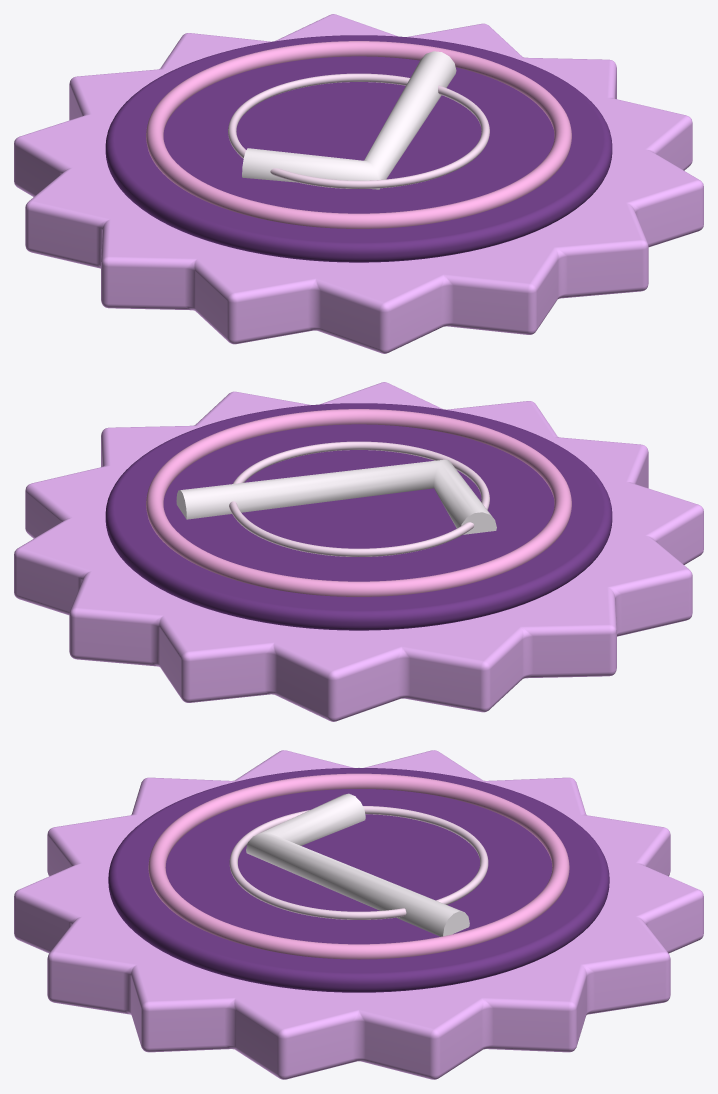
The model's file is achievement_medal.glb.
The picture shows the model from 3 angles, top to bottom: view 1: azimuth 30°, elevation 25°; view 2: azimuth 150°, elevation 25°; view 3: azimuth 270°, elevation 25°; orthographic projection.
Visible parts, largest first — view 1: purple starburst medal, inset violet core, completion glow ring, raised check, small check halo; view 2: purple starburst medal, inset violet core, completion glow ring, raised check, small check halo; view 3: purple starburst medal, inset violet core, completion glow ring, raised check, small check halo.
Boxes of the visible parts, left/top/right/bottom form: purple starburst medal: left=14, top=14, right=703, bottom=353; inset violet core: left=105, top=35, right=612, bottom=262; completion glow ring: left=146, top=41, right=571, bottom=228; raised check: left=242, top=51, right=456, bottom=189; small check halo: left=228, top=73, right=489, bottom=188; purple starburst medal: left=14, top=382, right=703, bottom=721; inset violet core: left=105, top=403, right=612, bottom=630; completion glow ring: left=146, top=409, right=571, bottom=596; raised check: left=176, top=459, right=496, bottom=534; small check halo: left=229, top=441, right=489, bottom=556; purple starburst medal: left=14, top=750, right=703, bottom=1079; inset violet core: left=108, top=768, right=609, bottom=992; completion glow ring: left=148, top=773, right=569, bottom=959; raised check: left=246, top=793, right=469, bottom=936; small check halo: left=229, top=806, right=488, bottom=919.
Size of the model in its own units: 1.93 by 0.2836 by 1.98.
